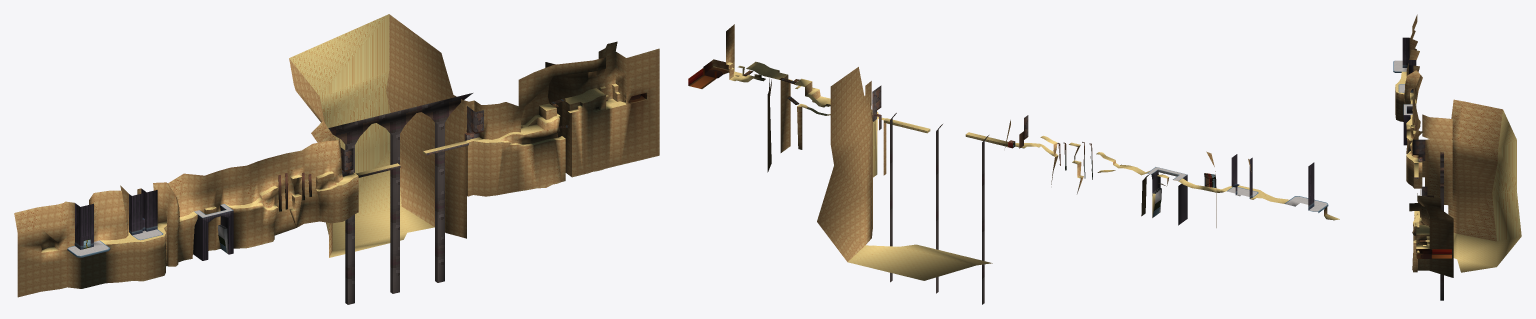
Rendered from level5.glb.
3 views of the same model, side by side, from view 1: azimuth 30°, elevation 25°; view 2: azimuth 150°, elevation 25°; view 3: azimuth 270°, elevation 25° (orthographic). The views are drawn at different scales.
Visible parts, largest first — view 1: level5; view 2: level5; view 3: level5.
Boxes of the visible parts, bbox=[...] form: level5: bbox=[14, 14, 659, 304]; level5: bbox=[688, 24, 1339, 304]; level5: bbox=[1393, 14, 1521, 300].
Bounding box in the file's own units: 178 × 60.21 × 43.75.
10 materials, 10 textured.
